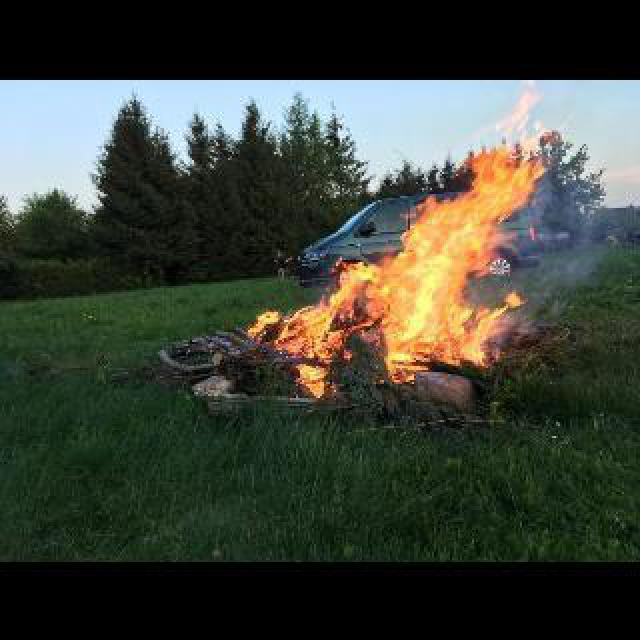fire: (220, 82, 570, 398)
